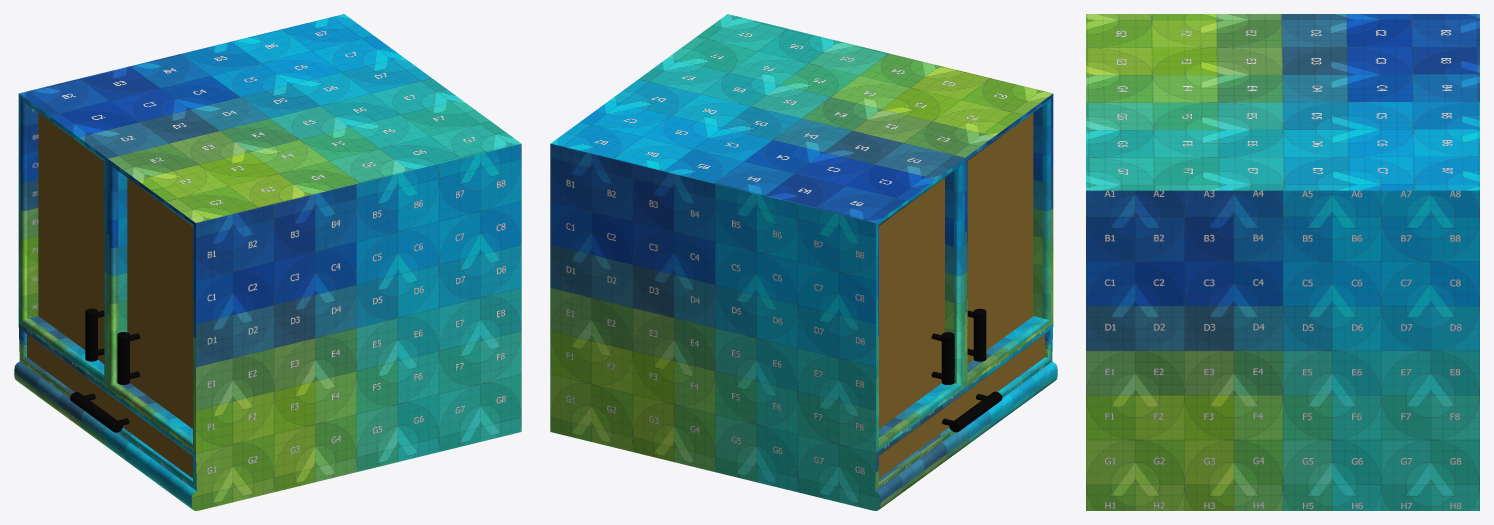
The model's file is CajonSuperior.fbx.
The picture shows the model from 3 angles, left to right: view 1: azimuth 30°, elevation 25°; view 2: azimuth 150°, elevation 25°; view 3: azimuth 270°, elevation 25°; orthographic projection. The views are drawn at different scales.
Visible parts, largest first — view 1: Box068, Box067, Box069, Box070; view 2: Box068, Box069, Box067, Box070; view 3: Box068.
Part boxes in pixels (<box>): Box068: <box>14,14,521,510</box>; Box067: <box>117,178,192,428</box>; Box069: <box>38,113,104,363</box>; Box070: <box>27,334,192,478</box>; Box068: <box>550,14,1057,510</box>; Box069: <box>879,178,954,428</box>; Box067: <box>967,113,1033,363</box>; Box070: <box>879,334,1044,478</box>; Box068: <box>1086,14,1479,510</box>.
Size of the model in its own units: 85.96 by 69.21 by 77.12.
3 materials, 1 textured.
